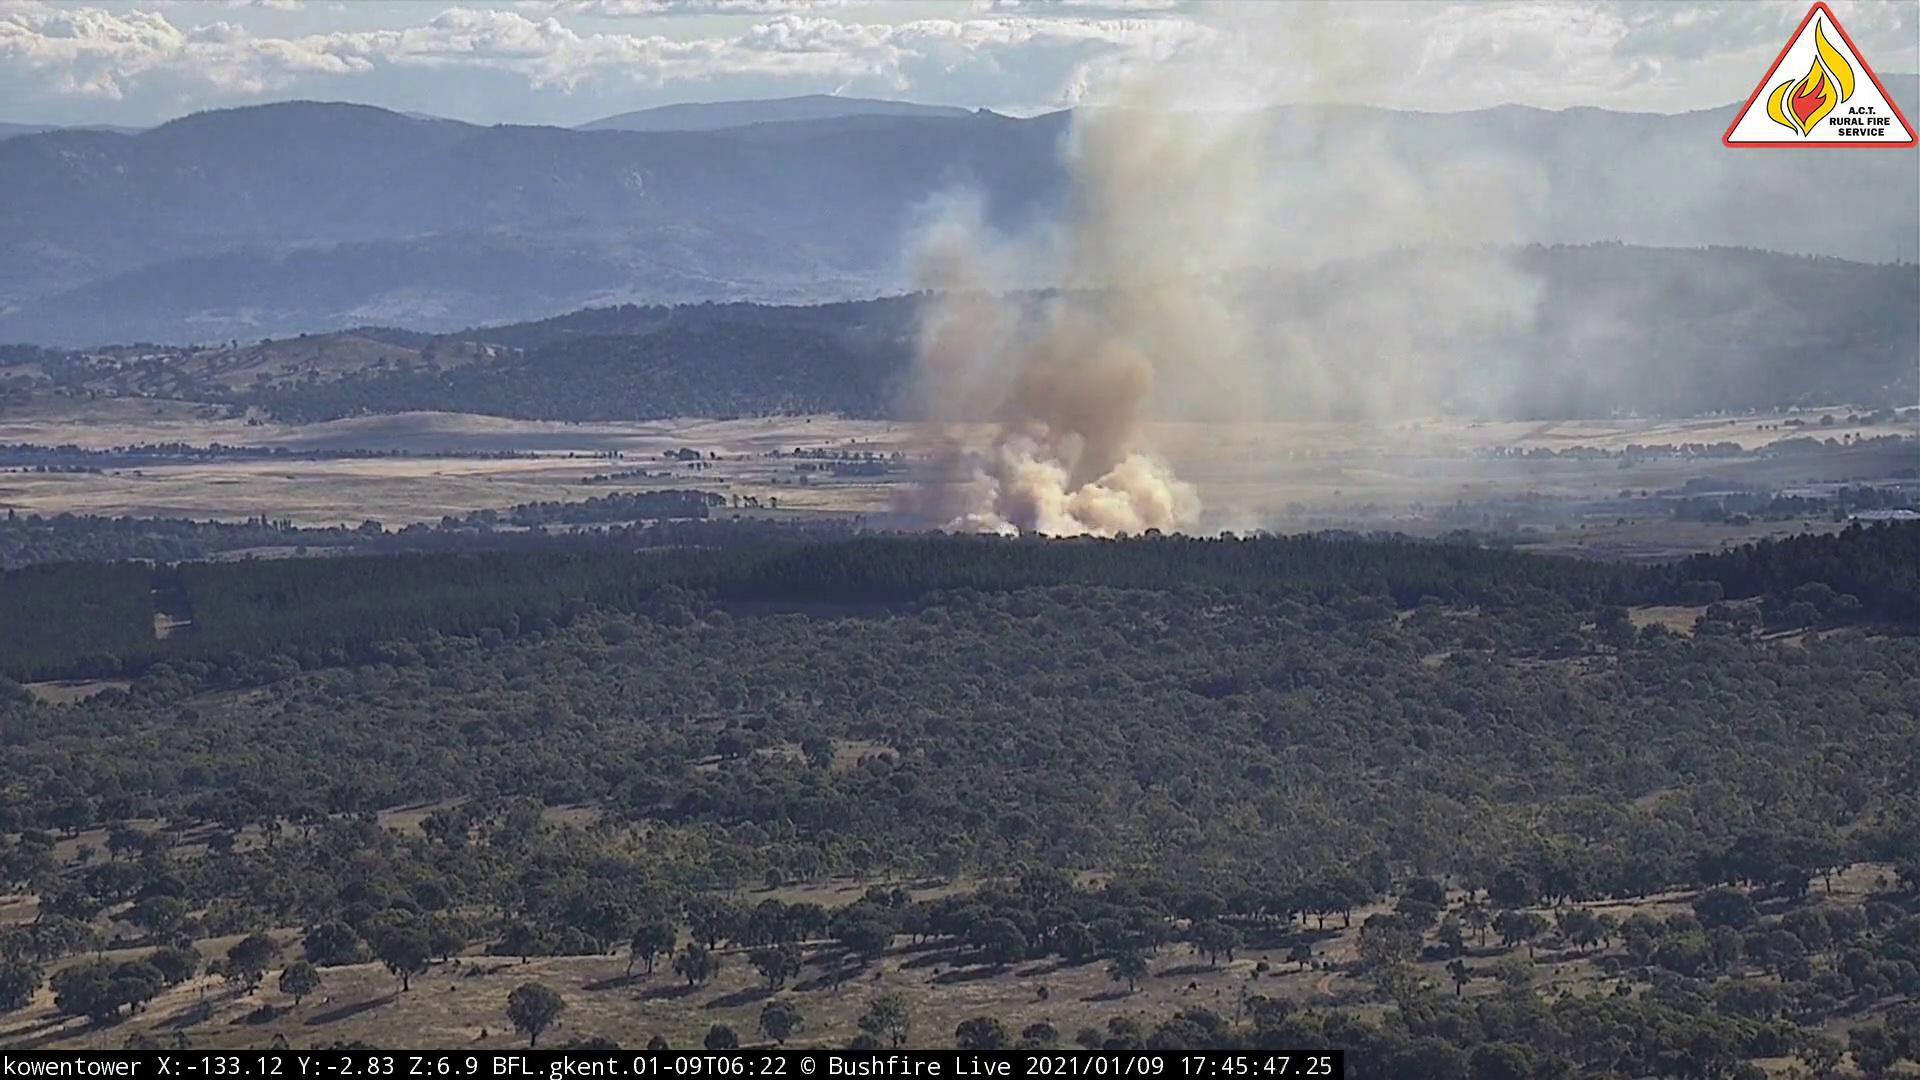Smoke: (853, 11, 1717, 546)
